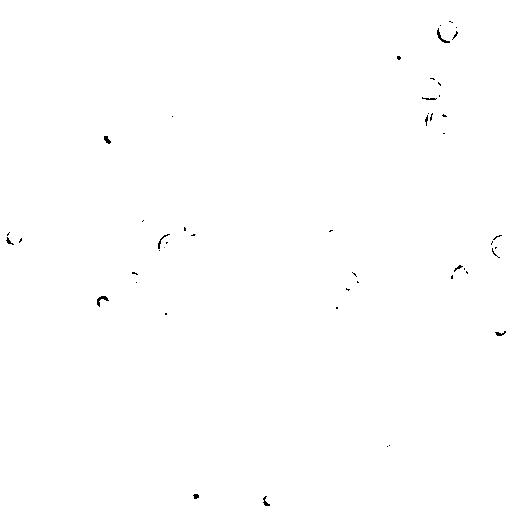micro-algae: (179, 82, 309, 205), (199, 108, 273, 181), (213, 55, 280, 119), (78, 131, 127, 176), (86, 260, 127, 299), (386, 279, 422, 316), (424, 105, 456, 137), (178, 481, 212, 511), (304, 487, 341, 511), (110, 331, 141, 359), (144, 250, 175, 277), (414, 75, 445, 102), (156, 234, 184, 262), (323, 290, 353, 315), (95, 127, 121, 153), (14, 459, 43, 482), (143, 435, 169, 460), (447, 261, 470, 289), (335, 335, 357, 361), (387, 45, 412, 67), (491, 234, 512, 260), (378, 441, 402, 463), (155, 345, 180, 366), (437, 20, 459, 43), (339, 269, 361, 291), (365, 360, 386, 381), (259, 489, 281, 509), (182, 219, 202, 240), (362, 230, 382, 250), (322, 229, 343, 248), (3, 228, 23, 247), (27, 0, 48, 17), (171, 106, 188, 125), (502, 259, 511, 293), (491, 320, 508, 337), (138, 216, 155, 233), (95, 292, 111, 309), (8, 0, 26, 14), (124, 271, 141, 284), (157, 311, 174, 324), (325, 248, 341, 261), (499, 497, 511, 511), (323, 0, 341, 9)
